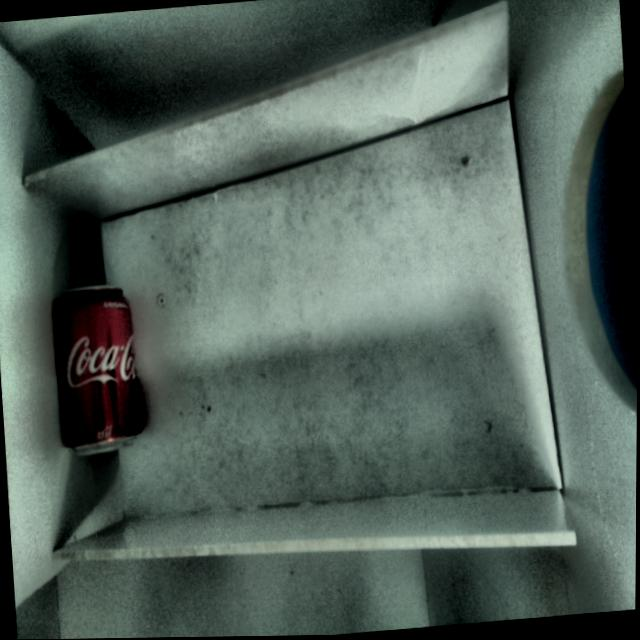Cans: (44, 274, 162, 468)
